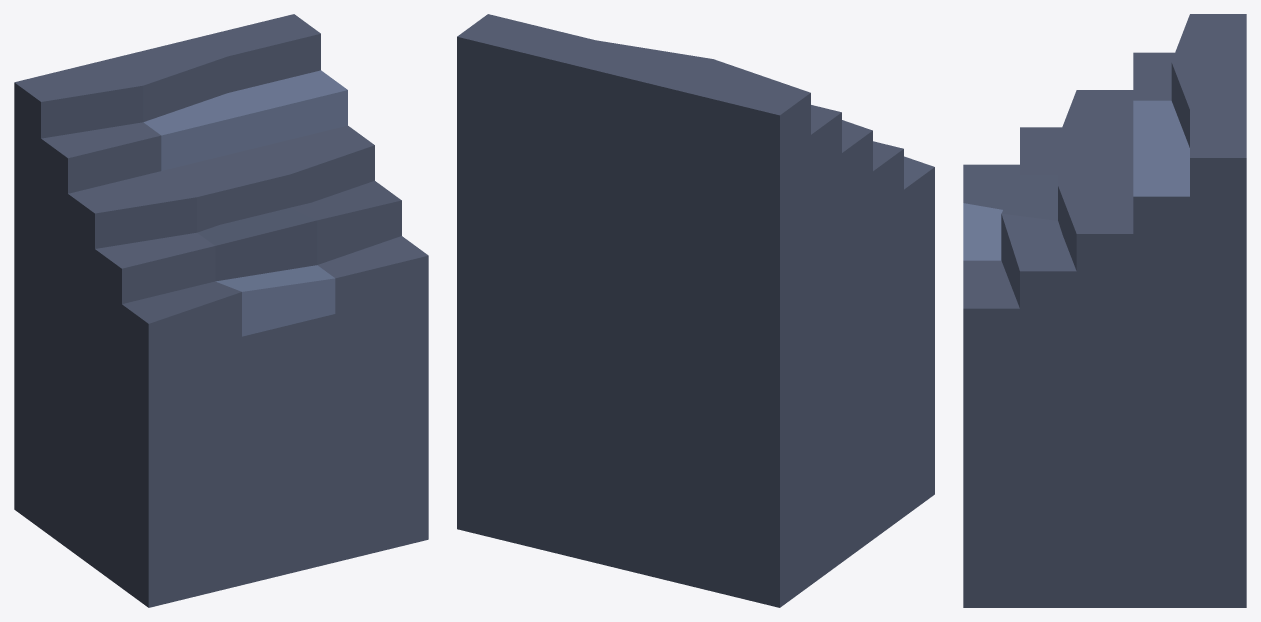
The model's file is escalera chica 2.fbx.
3 views of the same model, side by side, from view 1: azimuth 30°, elevation 25°; view 2: azimuth 150°, elevation 25°; view 3: azimuth 270°, elevation 25° (orthographic). The views are drawn at different scales.
Visible parts, largest first — view 1: stairs.002; view 2: stairs.002; view 3: stairs.002.
Boxes of the visible parts, x1,y1,x2,y2 form: stairs.002: [14, 14, 428, 607]; stairs.002: [457, 14, 934, 607]; stairs.002: [963, 14, 1246, 607].
Bounding box in the file's own units: 211 × 307 × 175.
